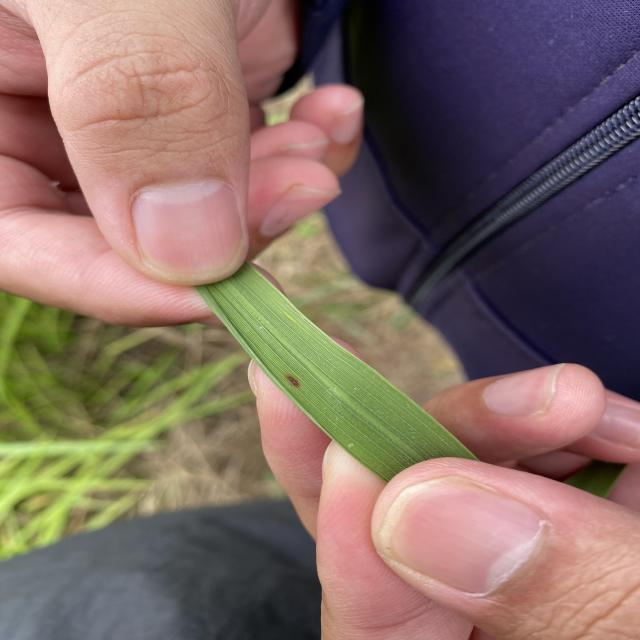Dom nau: (283, 375, 302, 389)
